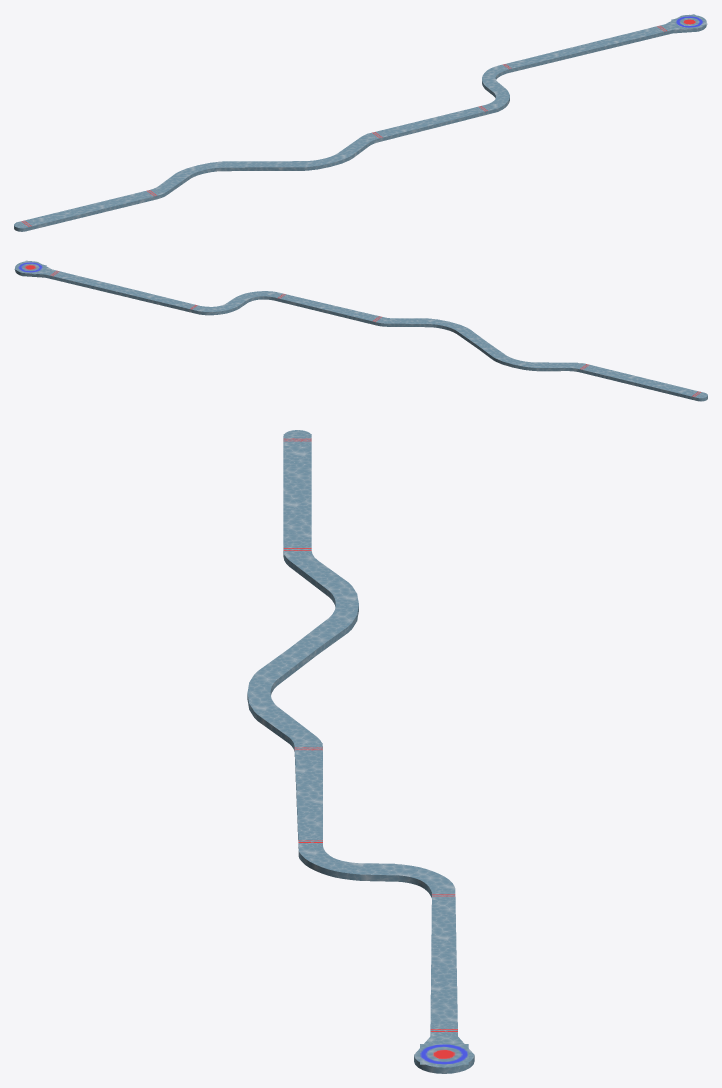
Rendered from Level.fbx.
3 views of the same model, one above another, from view 1: azimuth 30°, elevation 25°; view 2: azimuth 150°, elevation 25°; view 3: azimuth 270°, elevation 25° (orthographic). The views are drawn at different scales.
Parts seen in each view (by area): view 1: Plane.006; view 2: Plane.006, Plane.015; view 3: Plane.006, Plane.015.
Part boxes in pixels (bbox=[...]): Plane.006: bbox=[14, 14, 706, 231]; Plane.006: bbox=[15, 261, 707, 401]; Plane.015: bbox=[14, 260, 46, 274]; Plane.006: bbox=[247, 430, 474, 1073]; Plane.015: bbox=[420, 1044, 468, 1064].
Bounding box in the file's own units: 226 × 33.99 × 1.07.
